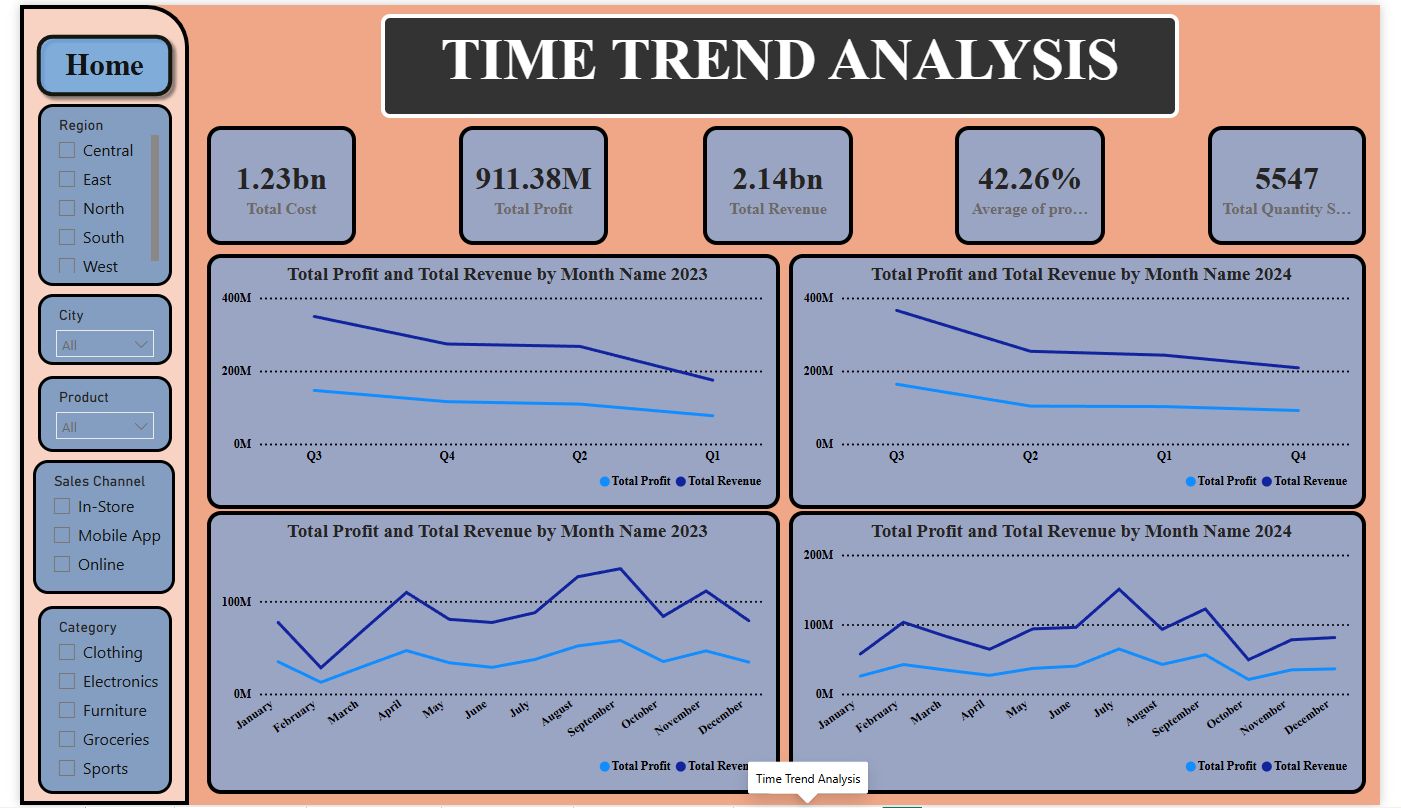

The page's visual inventory and layout, read from the dashboard file:
{"tool":"powerbi","page":{"name":"Time Trend Analysis","canvas":[1360,800],"ordinal":5},"visuals":[{"type":"lineChart","title":"Total Profit and Total Revenue by Month Name 2023","fields":{"Y":["📦 Raw Data.Total Profit","📦 Raw Data.Total Revenue"],"Category":["DIM_Date.Month_Name"]},"box":[187.2,505.9,572.9,283.5],"z":0},{"type":"lineChart","title":"Total Profit and Total Revenue by Month Name 2024","fields":{"Y":["📦 Raw Data.Total Profit","📦 Raw Data.Total Revenue"],"Category":["DIM_Date.Month_Name"]},"box":[769.4,505.9,576.5,283.5],"z":1000},{"type":"lineChart","title":"Total Profit and Total Revenue by Month Name 2023","fields":{"Y":["📦 Raw Data.Total Profit","📦 Raw Data.Total Revenue"],"Category":["DIM_Date.Quarter"]},"box":[187.2,249.4,572.9,254.1],"z":2000},{"type":"lineChart","title":"Total Profit and Total Revenue by Month Name 2024","fields":{"Y":["📦 Raw Data.Total Profit","📦 Raw Data.Total Revenue"],"Category":["DIM_Date.Quarter"]},"box":[769.4,249.4,576.5,254.1],"z":3000},{"type":"shape","box":[0,0,169.4,800],"z":4000},{"type":"pageNavigator","box":[9.4,22.4,150.6,76.5],"z":5000},{"type":"slicer","fields":{"Values":["📦 Raw Data.City"]},"box":[17.6,289.4,134.1,70.6],"z":6000},{"type":"slicer","fields":{"Values":["📦 Raw Data.Product"]},"box":[17.6,370.6,134.1,76.5],"z":7000},{"type":"slicer","fields":{"Values":["📦 Raw Data.Sales Channel"]},"box":[12.9,455.3,142.4,134.1],"z":8000},{"type":"slicer","fields":{"Values":["📦 Raw Data.Category"]},"box":[17.6,601.2,134.1,188.2],"z":9000},{"type":"card","fields":{"Values":["📦 Raw Data.Total Cost"]},"box":[187.1,121.2,149.4,118.8],"z":10000},{"type":"card","fields":{"Values":["📦 Raw Data.Total Profit"]},"box":[438.9,121,149,119],"z":11000},{"type":"card","fields":{"Values":["📦 Raw Data.Total Quantity Sold"]},"box":[1188.2,121.2,157.6,118.8],"z":12000},{"type":"card","fields":{"Values":["📦 Raw Data.Total Revenue"]},"box":[682.9,121,150,119],"z":13000},{"type":"card","fields":{"Values":["Avg(📦 Raw Data.Proit Margin)"]},"box":[934.9,121,150,119],"z":14000},{"type":"textbox","box":[361.2,9.4,797.6,103.5],"z":15000},{"type":"slicer","fields":{"Values":["📦 Raw Data.Region"]},"box":[17.6,98.8,134.1,182.4],"z":16000}]}

Visuals, with their boxes in screenshot pixels (x1, y1, x2, y2), scaled from the page's 1360x800 canvas onto the 1401x808 screenshot:
"Total Profit and Total Revenue by Month Name 2023" lineChart: left=193, top=511, right=783, bottom=797
"Total Profit and Total Revenue by Month Name 2024" lineChart: left=793, top=511, right=1386, bottom=797
"Total Profit and Total Revenue by Month Name 2023" lineChart: left=193, top=252, right=783, bottom=509
"Total Profit and Total Revenue by Month Name 2024" lineChart: left=793, top=252, right=1386, bottom=509
shape: left=0, top=0, right=175, bottom=807
pageNavigator: left=10, top=23, right=165, bottom=100
slicer - 📦 Raw Data.City: left=18, top=292, right=156, bottom=364
slicer - 📦 Raw Data.Product: left=18, top=374, right=156, bottom=452
slicer - 📦 Raw Data.Sales Channel: left=13, top=460, right=160, bottom=595
slicer - 📦 Raw Data.Category: left=18, top=607, right=156, bottom=797
card - 📦 Raw Data.Total Cost: left=193, top=122, right=347, bottom=242
card - 📦 Raw Data.Total Profit: left=452, top=122, right=606, bottom=242
card - 📦 Raw Data.Total Quantity Sold: left=1224, top=122, right=1386, bottom=242
card - 📦 Raw Data.Total Revenue: left=703, top=122, right=858, bottom=242
card - Avg(📦 Raw Data.Proit Margin): left=963, top=122, right=1118, bottom=242
textbox: left=372, top=9, right=1194, bottom=114
slicer - 📦 Raw Data.Region: left=18, top=100, right=156, bottom=284
